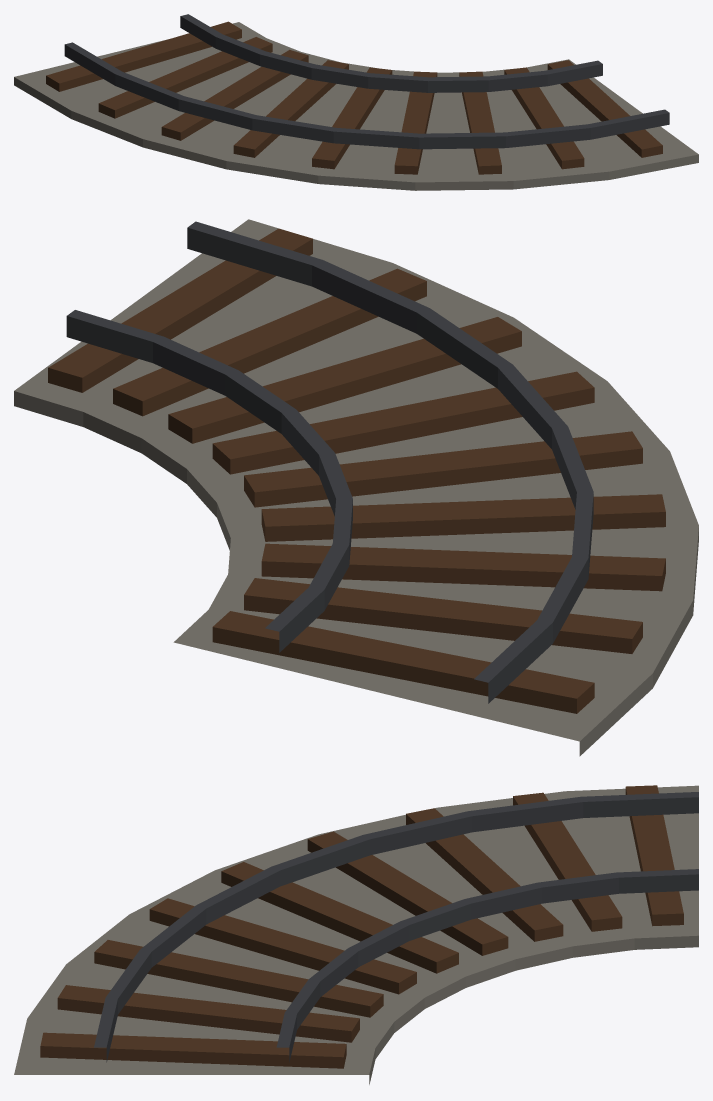
File: road_rail_v_curve.glb
3 renders of one model, top to bottom at view 1: azimuth 30°, elevation 25°; view 2: azimuth 150°, elevation 25°; view 3: azimuth 270°, elevation 25°, orthographic. The views are drawn at different scales.
Visible parts, largest first — view 1: body; view 2: body; view 3: body.
Part boxes in pixels (bbox=[...]): body: bbox=[14, 14, 698, 190]; body: bbox=[14, 219, 698, 756]; body: bbox=[14, 785, 698, 1084].
Size of what is drawn, in the model's own units: 5.4 by 0.34 by 5.4.
